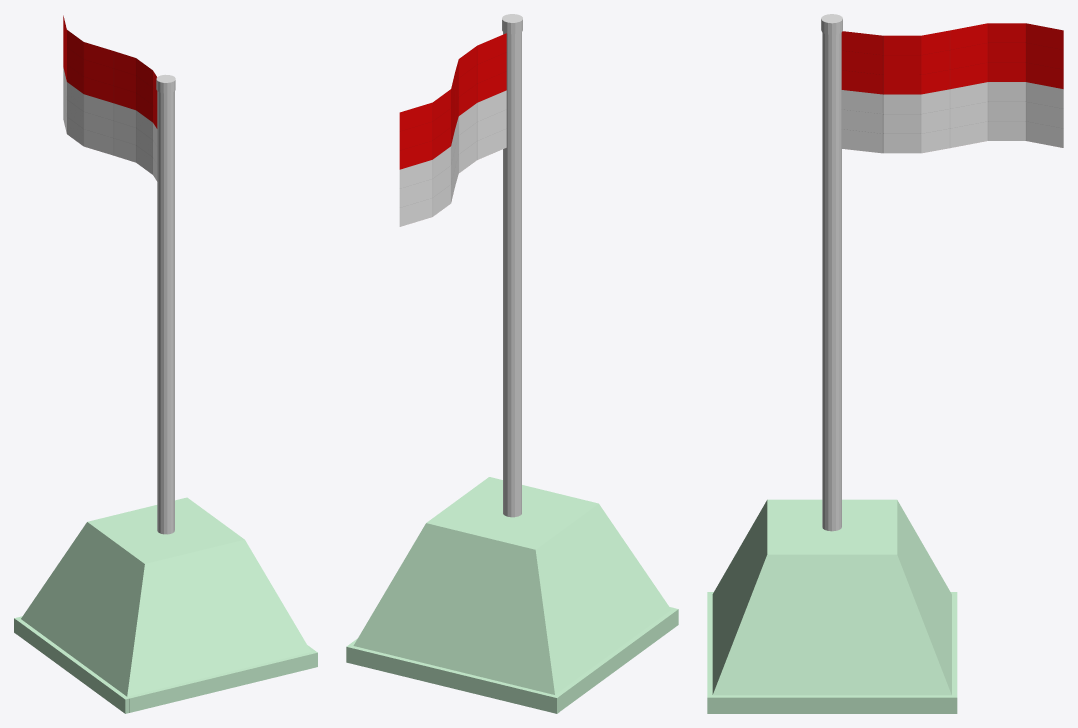
File: bendera jadi.fbx
3 views of the same model, side by side, from view 1: azimuth 30°, elevation 25°; view 2: azimuth 150°, elevation 25°; view 3: azimuth 270°, elevation 25° (orthographic). The views are drawn at different scales.
Visible parts, largest first — view 1: Cube, Plane, Circle; view 2: Cube, Plane, Circle; view 3: Cube, Plane, Circle.
Part boxes in pixels (x1,y1,x2,y2): Cube: [14, 497, 317, 713]; Plane: [63, 15, 157, 181]; Circle: [156, 74, 175, 534]; Cube: [346, 477, 678, 713]; Plane: [399, 33, 506, 226]; Circle: [502, 14, 522, 517]; Cube: [707, 499, 957, 713]; Plane: [841, 23, 1063, 153]; Circle: [821, 14, 842, 531].
Bounding box in the file's own units: 3.85 × 10.91 × 5.49.
3 materials, 1 textured.
